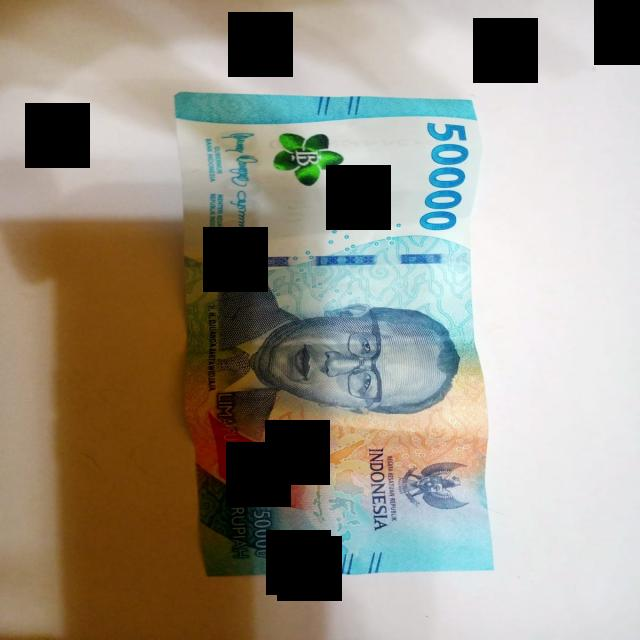lima puluh ribu rupiah: (175, 92, 492, 575)
